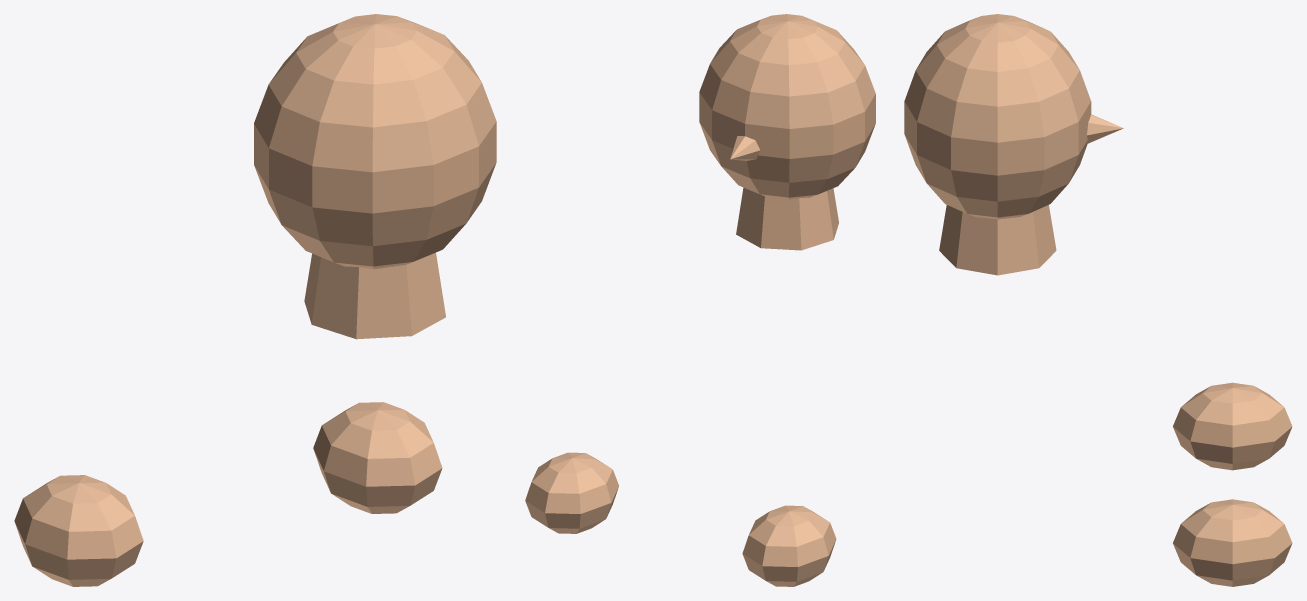
File: customer_skin_whole.glb
3 views of the same model, side by side, from view 1: azimuth 30°, elevation 25°; view 2: azimuth 150°, elevation 25°; view 3: azimuth 270°, elevation 25° (orthographic). The views are drawn at different scales.
Parts seen in each view (by area): view 1: customer_skin_whole_0; view 2: customer_skin_whole_0; view 3: customer_skin_whole_0.
Part boxes in pixels (bbox=[...]): customer_skin_whole_0: bbox=[14, 14, 496, 586]; customer_skin_whole_0: bbox=[525, 14, 875, 586]; customer_skin_whole_0: bbox=[904, 14, 1292, 586].
Size of the model in its own units: 0.64 by 0.9408 by 0.661.
